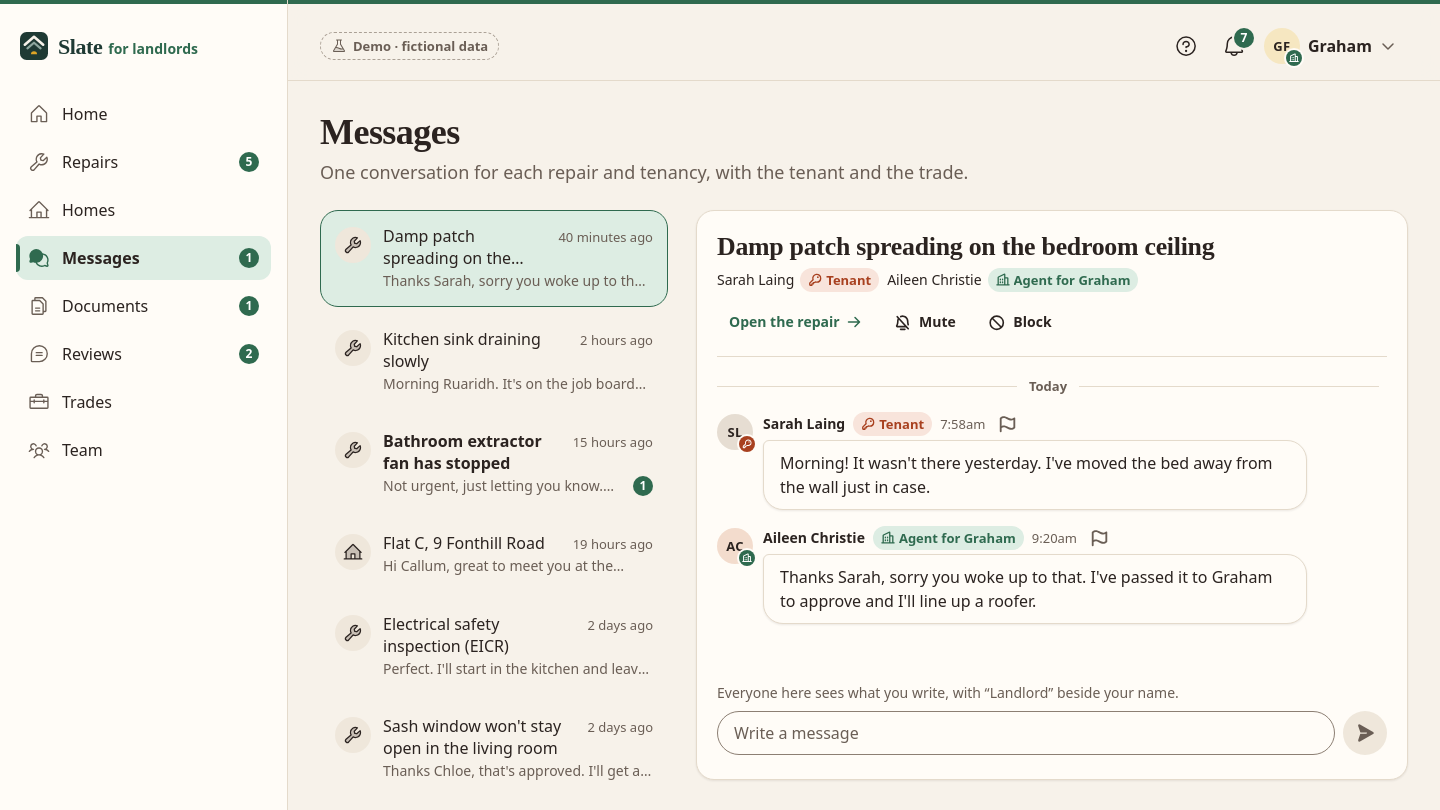
messages › lists conversations and sends a message with the landlord’s role chip
The image size is (1440, 810).
Check: the text "Tenant" next to "7:58am" is shown, box [879,415,924,433]
In the text box named "Message about Damp patch": x=1026, y=734 [717,712,1335,756], type "A roofer is coming on Tuesday."
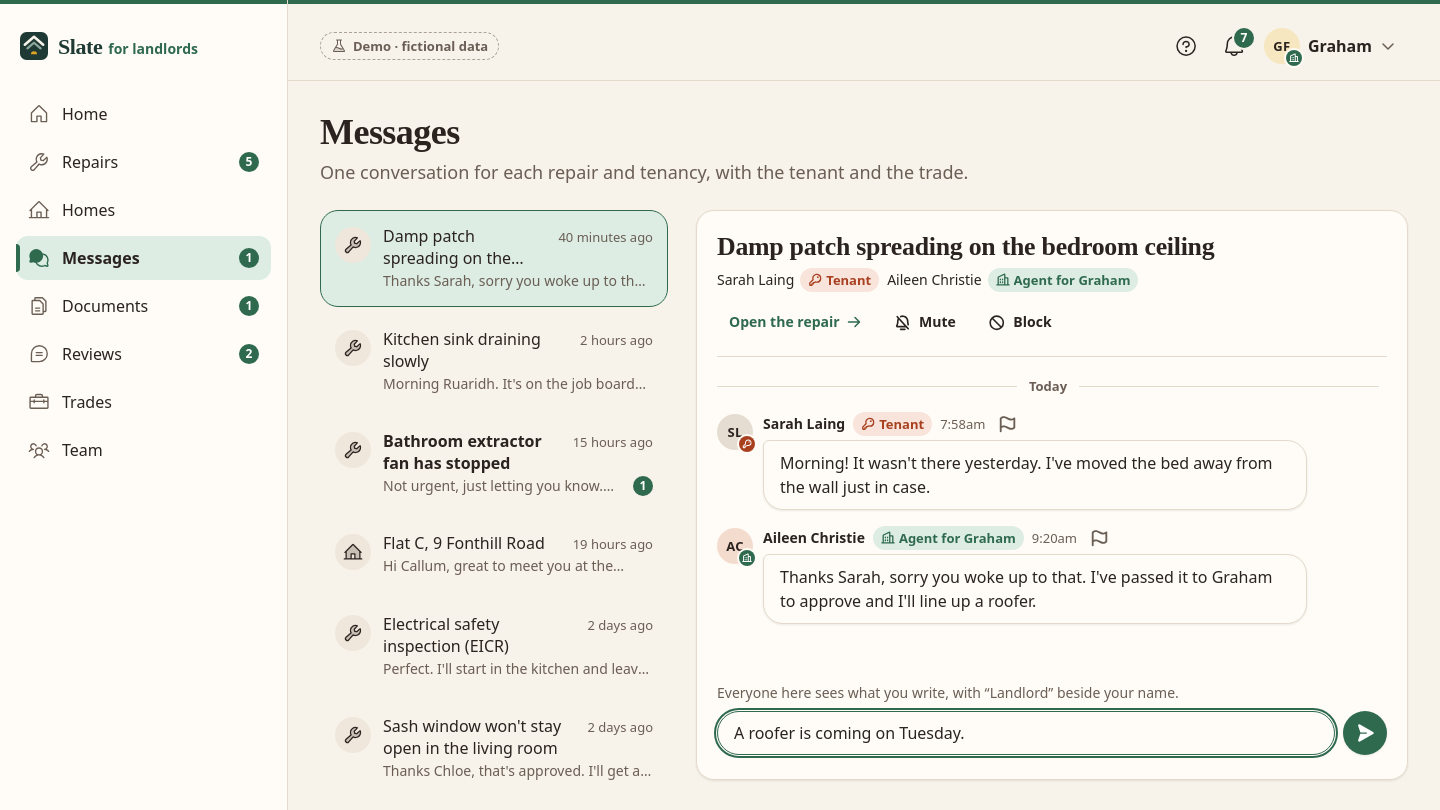
Click the button named "Send": x=1365, y=734 [1343,712,1387,756]
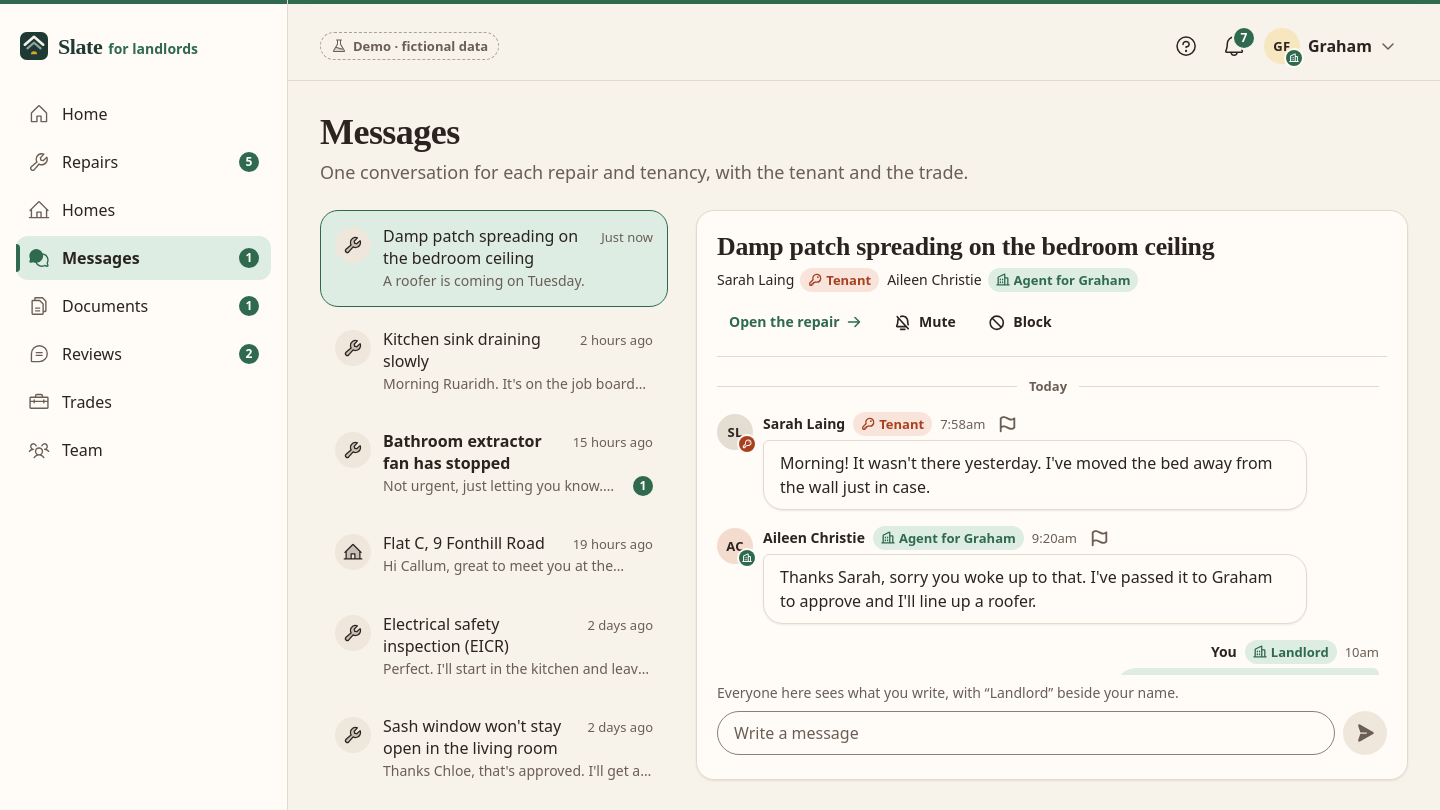
Check: the text "A roofer is coming on Tuesday." is shown, box [383,272,585,290]
